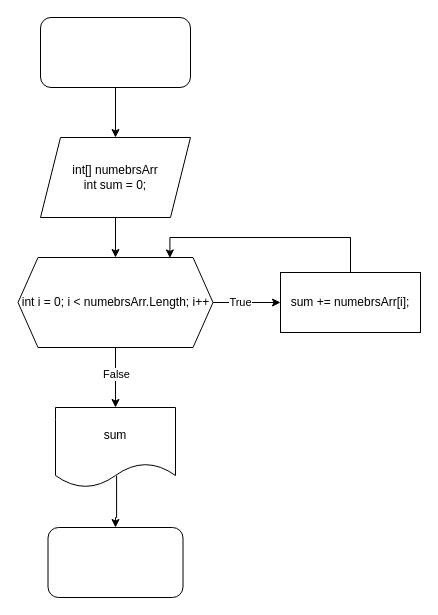
This 438x615 diagram has some shape labels left out. The shapes that lost their labels are listed below. From the top down, each one's box as (x1, y1, x2, y2) in pixels, then its label:
(40, 16, 190, 88): Start
(47, 526, 183, 598): End
